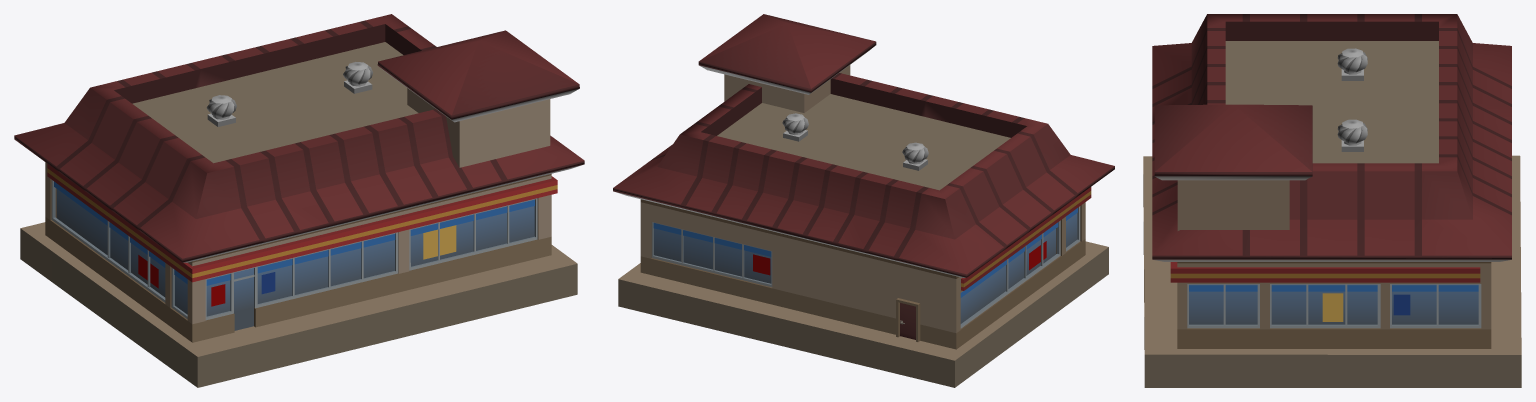
3 renders of one model, left to right at view 1: azimuth 30°, elevation 25°; view 2: azimuth 150°, elevation 25°; view 3: azimuth 270°, elevation 25°, orthographic. The views are drawn at different scales.
Parts seen in each view (by area): view 1: base.214; view 2: base.214; view 3: base.214.
Part boxes in pixels (<box>): base.214: <box>14,14,584,387</box>; base.214: <box>613,14,1114,387</box>; base.214: <box>1143,14,1521,387</box>.
Size of the model in its own units: 0.5 by 0.2817 by 0.381.
